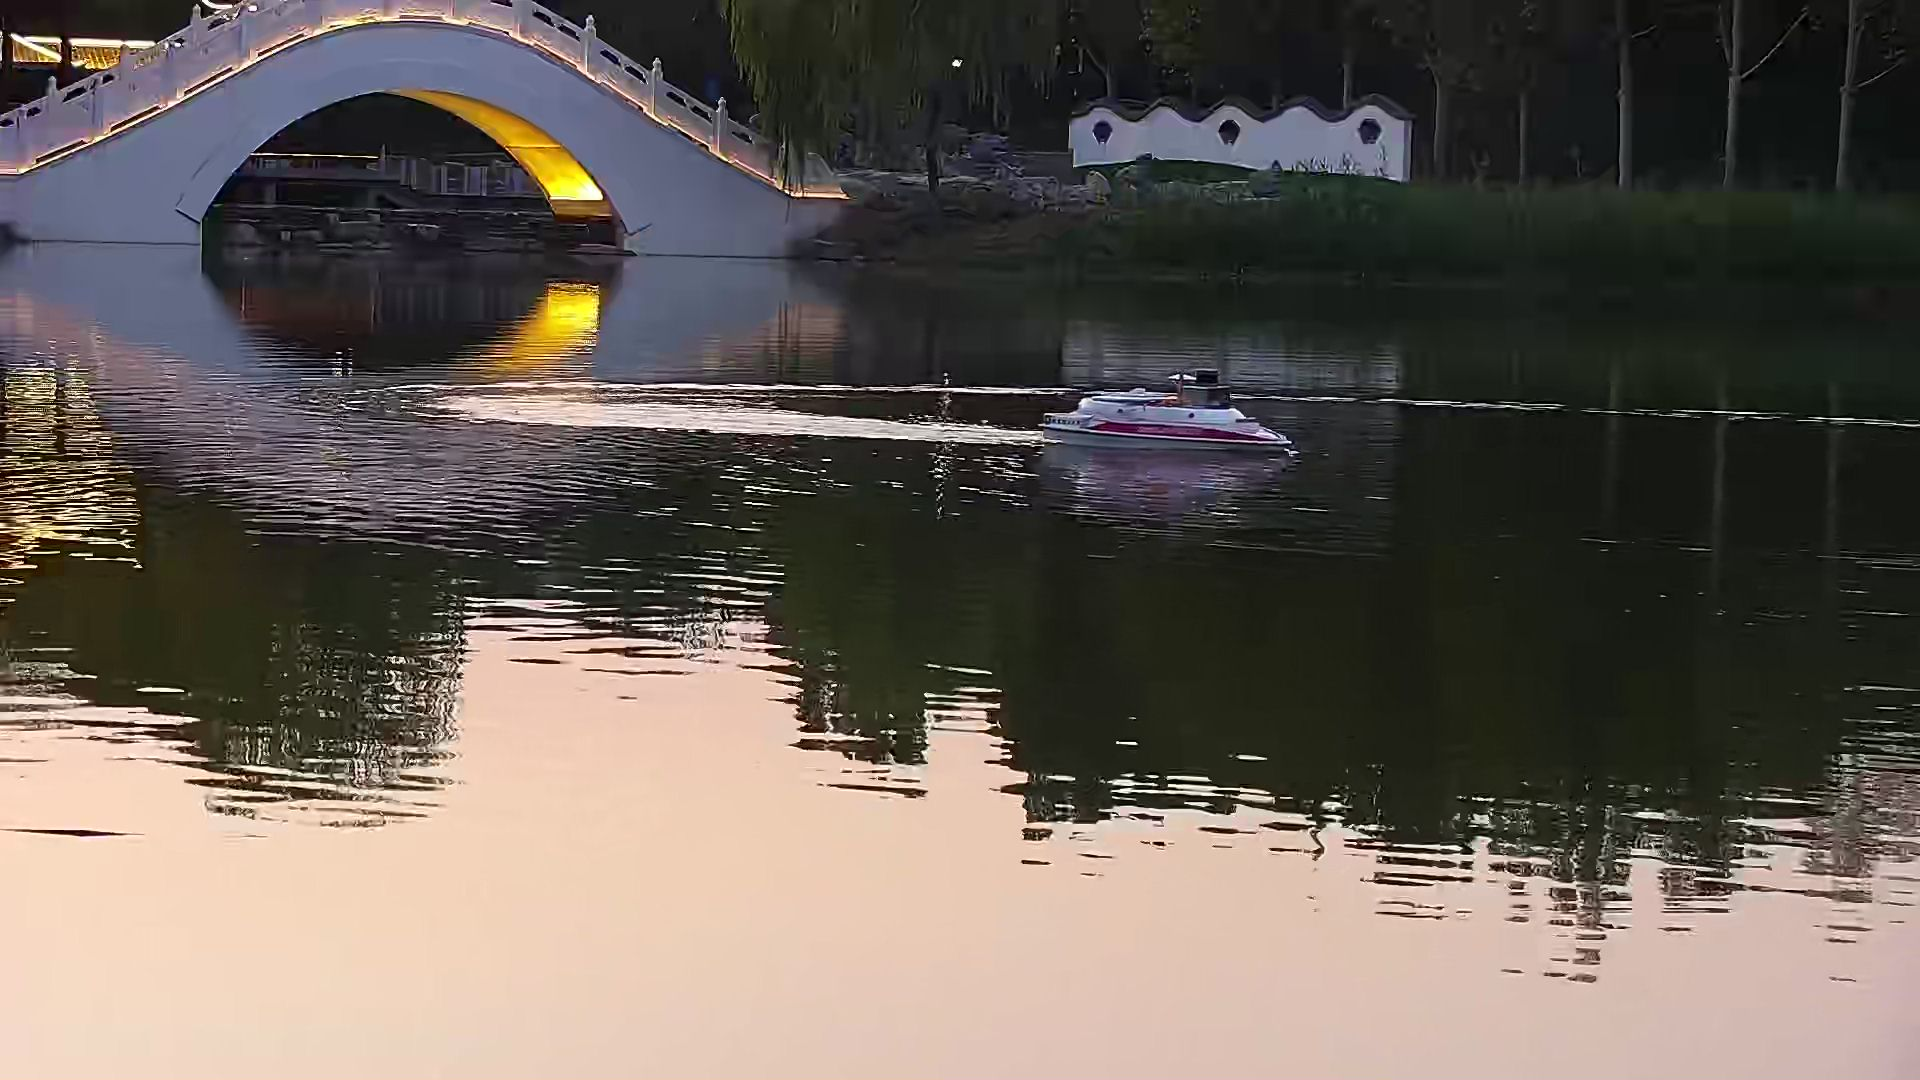boat: (1042, 371, 1290, 456)
bridge: (1, 3, 819, 258)
